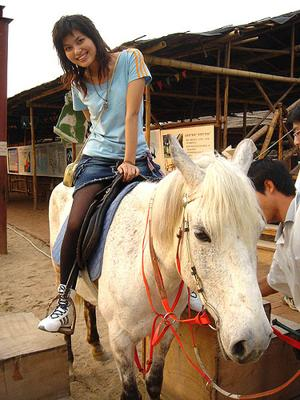person: (38, 15, 165, 334)
